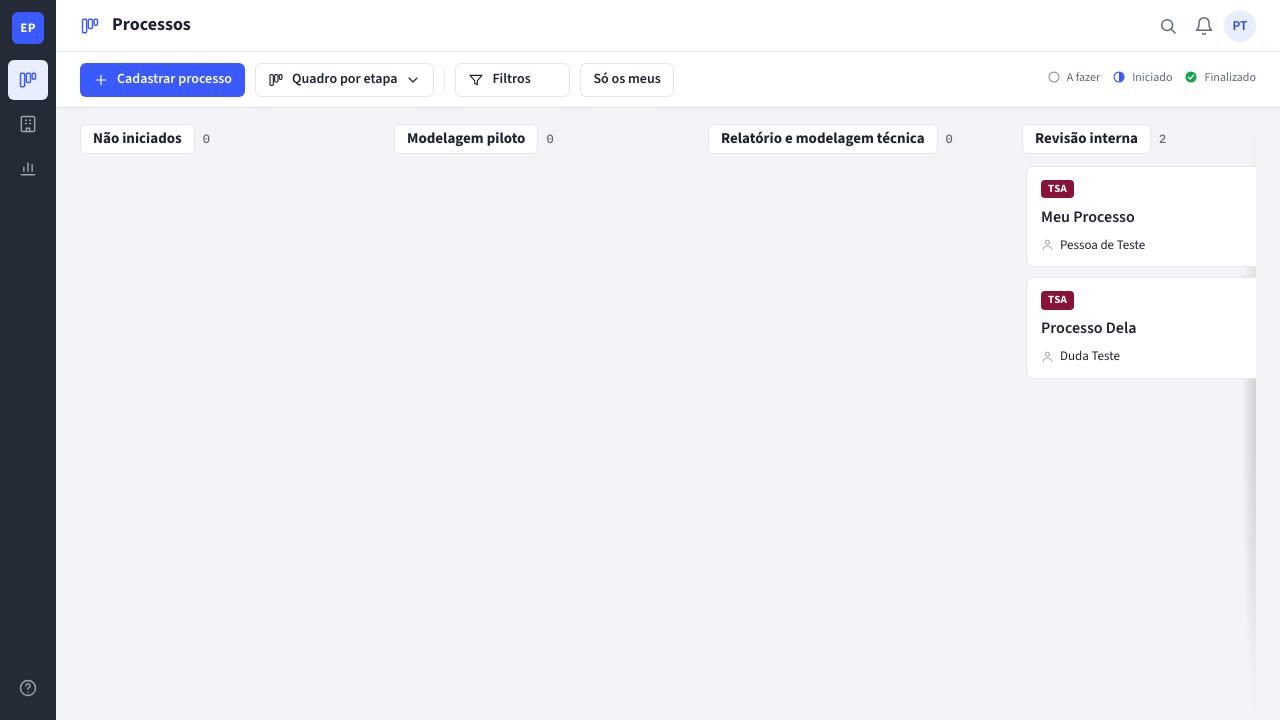
Scenario: ligar deixa só os meus, põe o filtro Responsável em mim e grava no endereço; desligar desfaz
The image size is (1280, 720).
Click the button "Só os meus" at [627, 80], box [580,62,674,96]
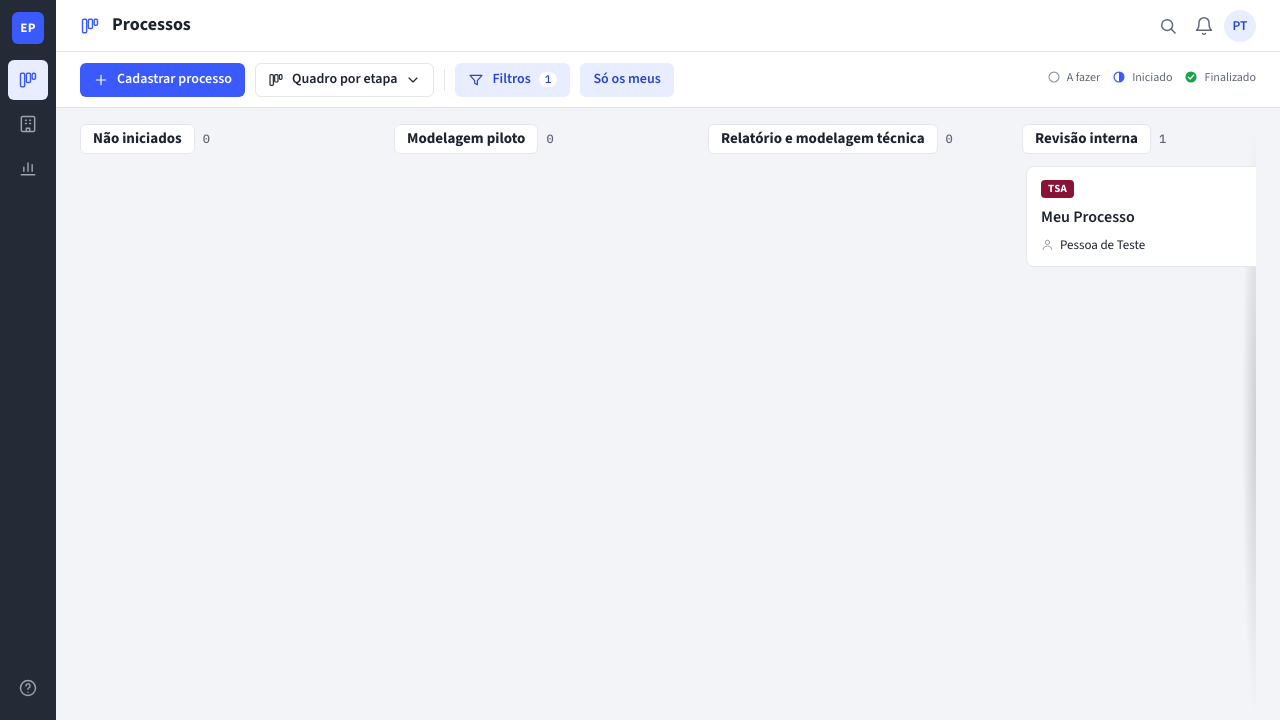
Now the button "Só os meus" is pressed, box [580,62,674,96]
Click the button "Filtros 1" at [513, 80], box [455,62,570,96]
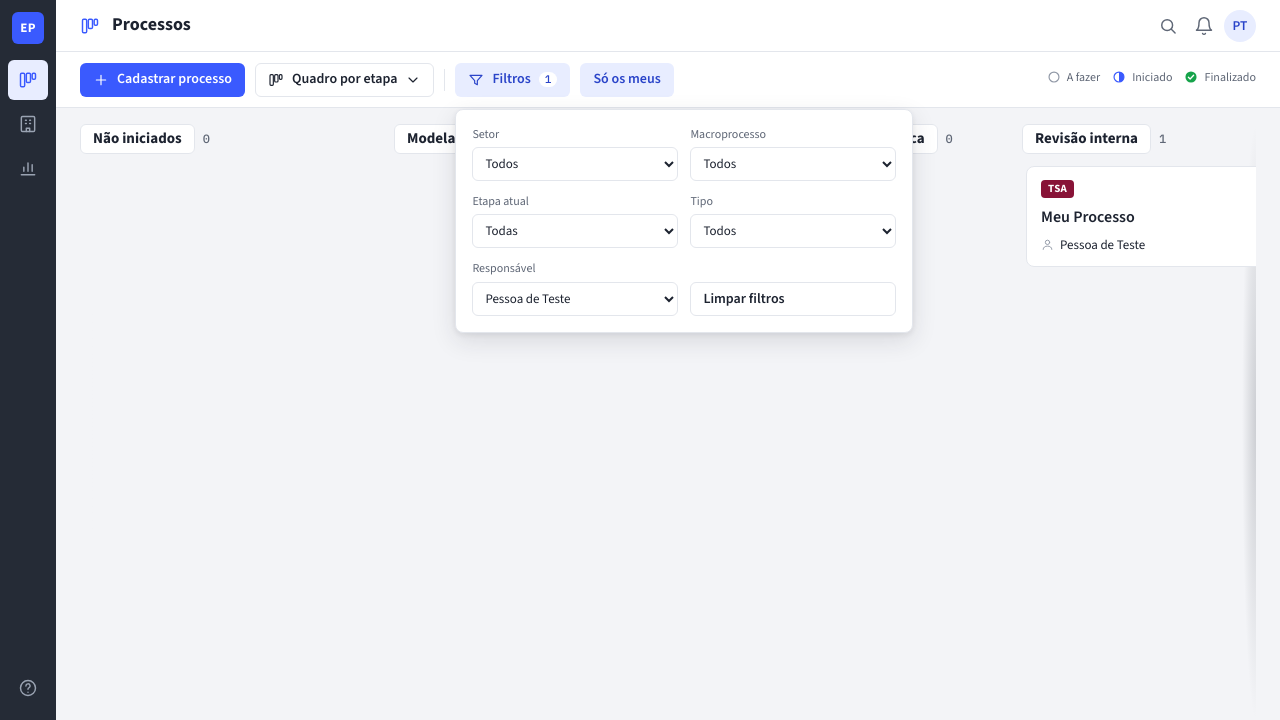
Now the dropdown labelled "Responsável" shows "Pessoa de Teste", box [472,282,678,316]
Click the button "Só os meus" at [627, 80], box [580,62,674,96]
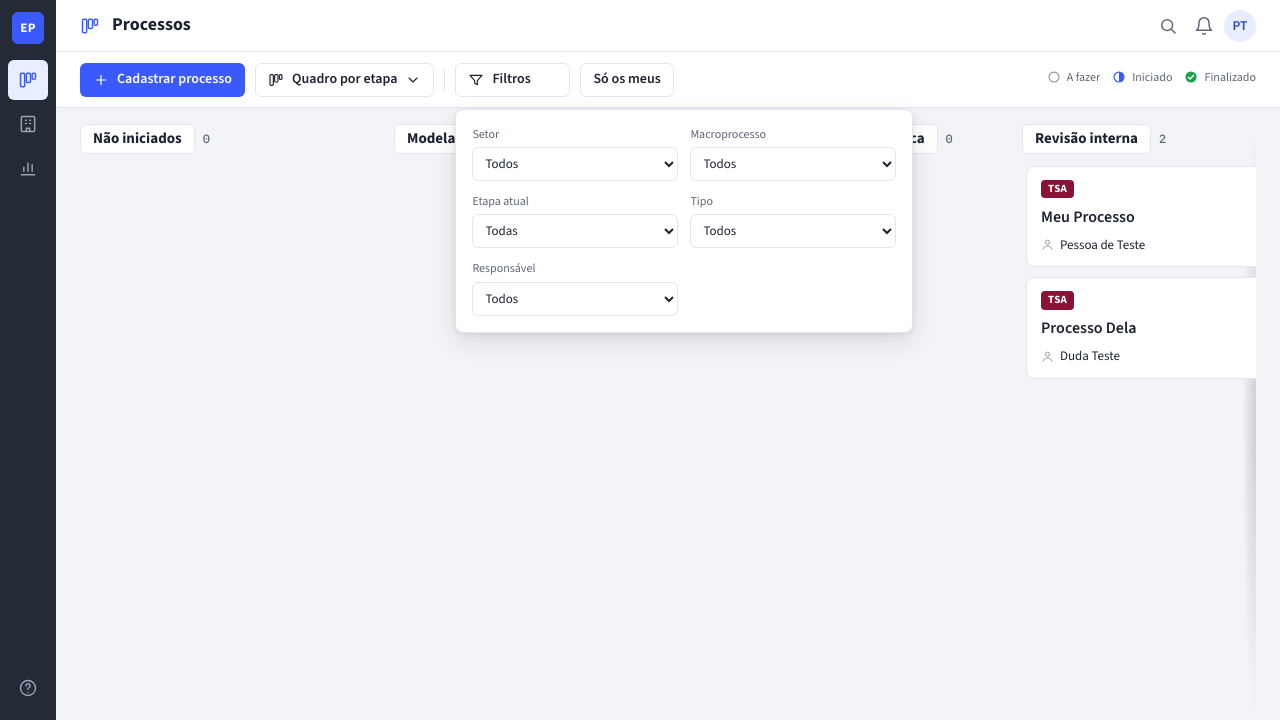
Now the dropdown labelled "Responsável" shows "Todos", box [472,282,678,316]
